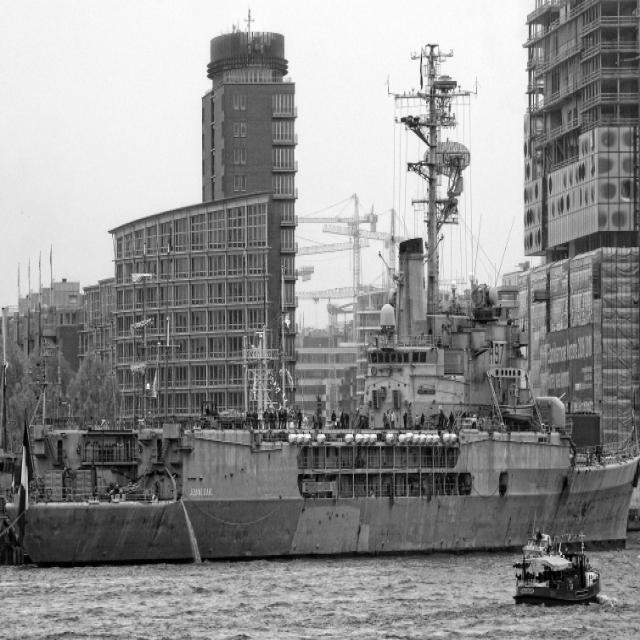Portanaves: (1, 228, 640, 575)
